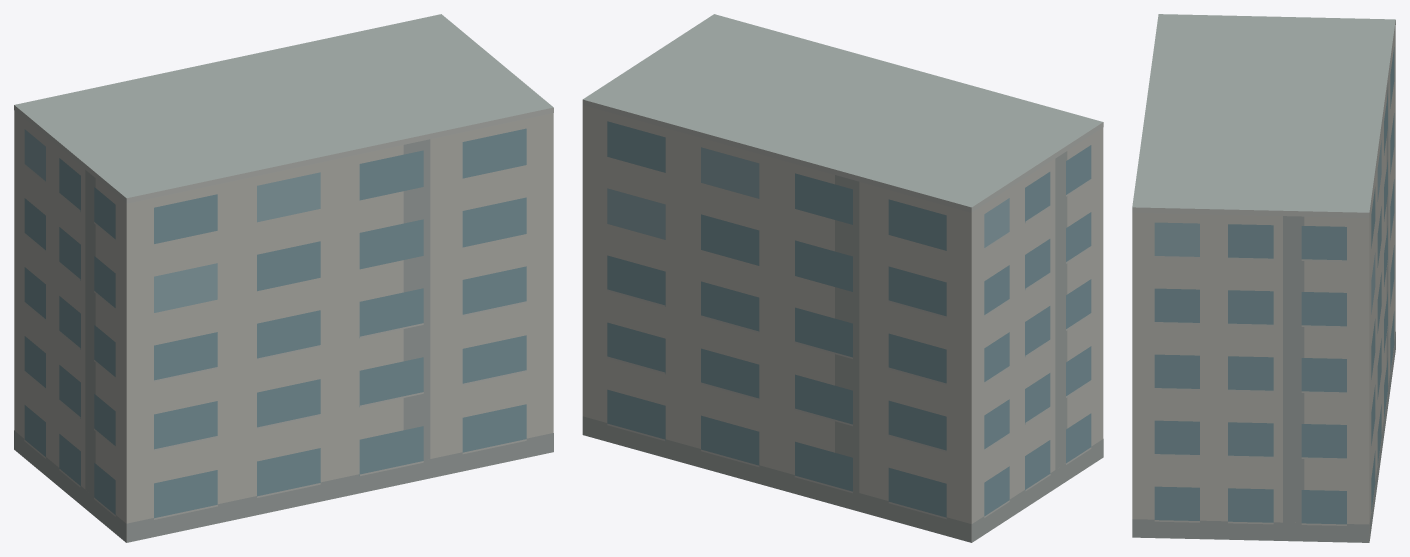
Rendered from survey-upis-33007936.glb.
3 views of the same model, side by side, from view 1: azimuth 30°, elevation 25°; view 2: azimuth 150°, elevation 25°; view 3: azimuth 270°, elevation 25° (orthographic). The views are drawn at different scales.
Parts seen in each view (by area): view 1: survey-upis-33007936.tmp; view 2: survey-upis-33007936.tmp; view 3: survey-upis-33007936.tmp.
Boxes of the visible parts, <box> form: survey-upis-33007936.tmp: <box>14,14,553,542</box>; survey-upis-33007936.tmp: <box>582,14,1103,542</box>; survey-upis-33007936.tmp: <box>1132,14,1395,542</box>.
Bounding box in the file's own units: 19.7 × 15.25 × 11.04.
